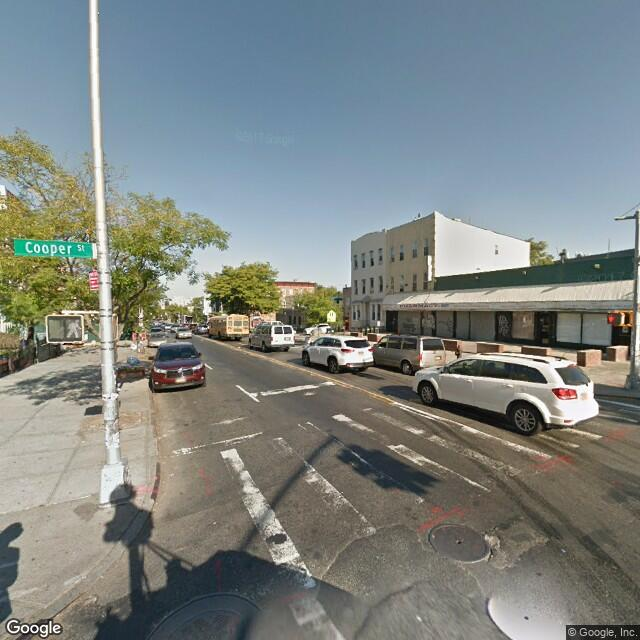litter: (124, 354, 139, 366)
